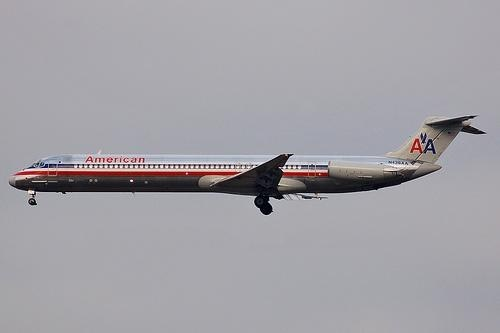aeroplane: (9, 114, 487, 215)
